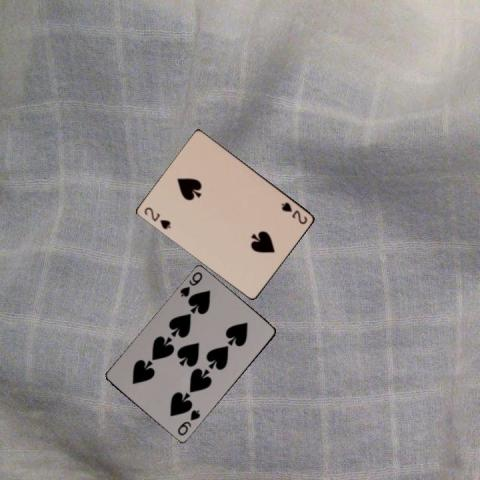2s: (141, 204, 172, 231), (279, 199, 309, 226)
9s: (175, 407, 202, 437), (177, 268, 204, 298)
